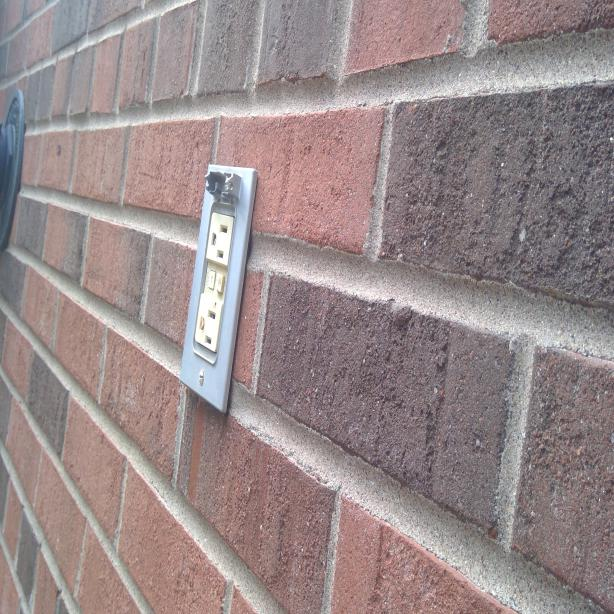typeb: (193, 299, 220, 351), (208, 215, 230, 262)
